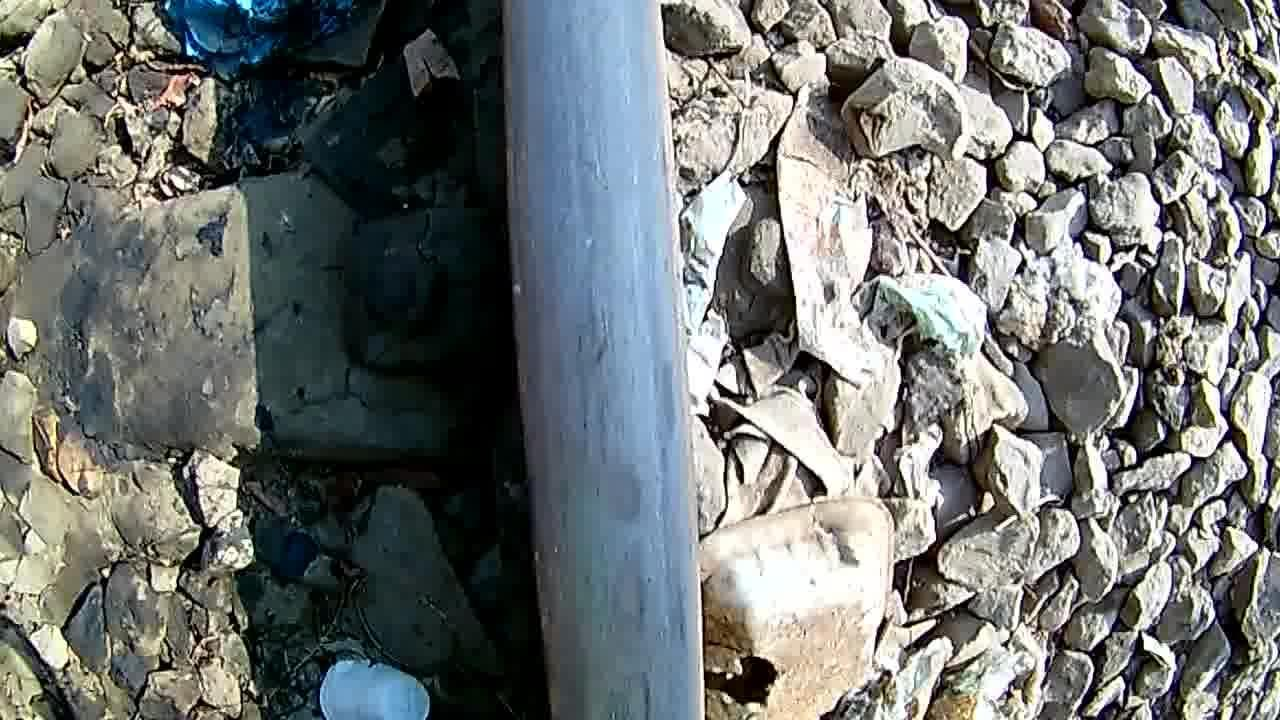crack: (513, 20, 711, 720)
